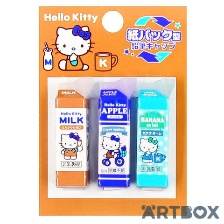carton: (94, 76, 139, 190), (133, 76, 176, 193), (52, 77, 96, 191)
